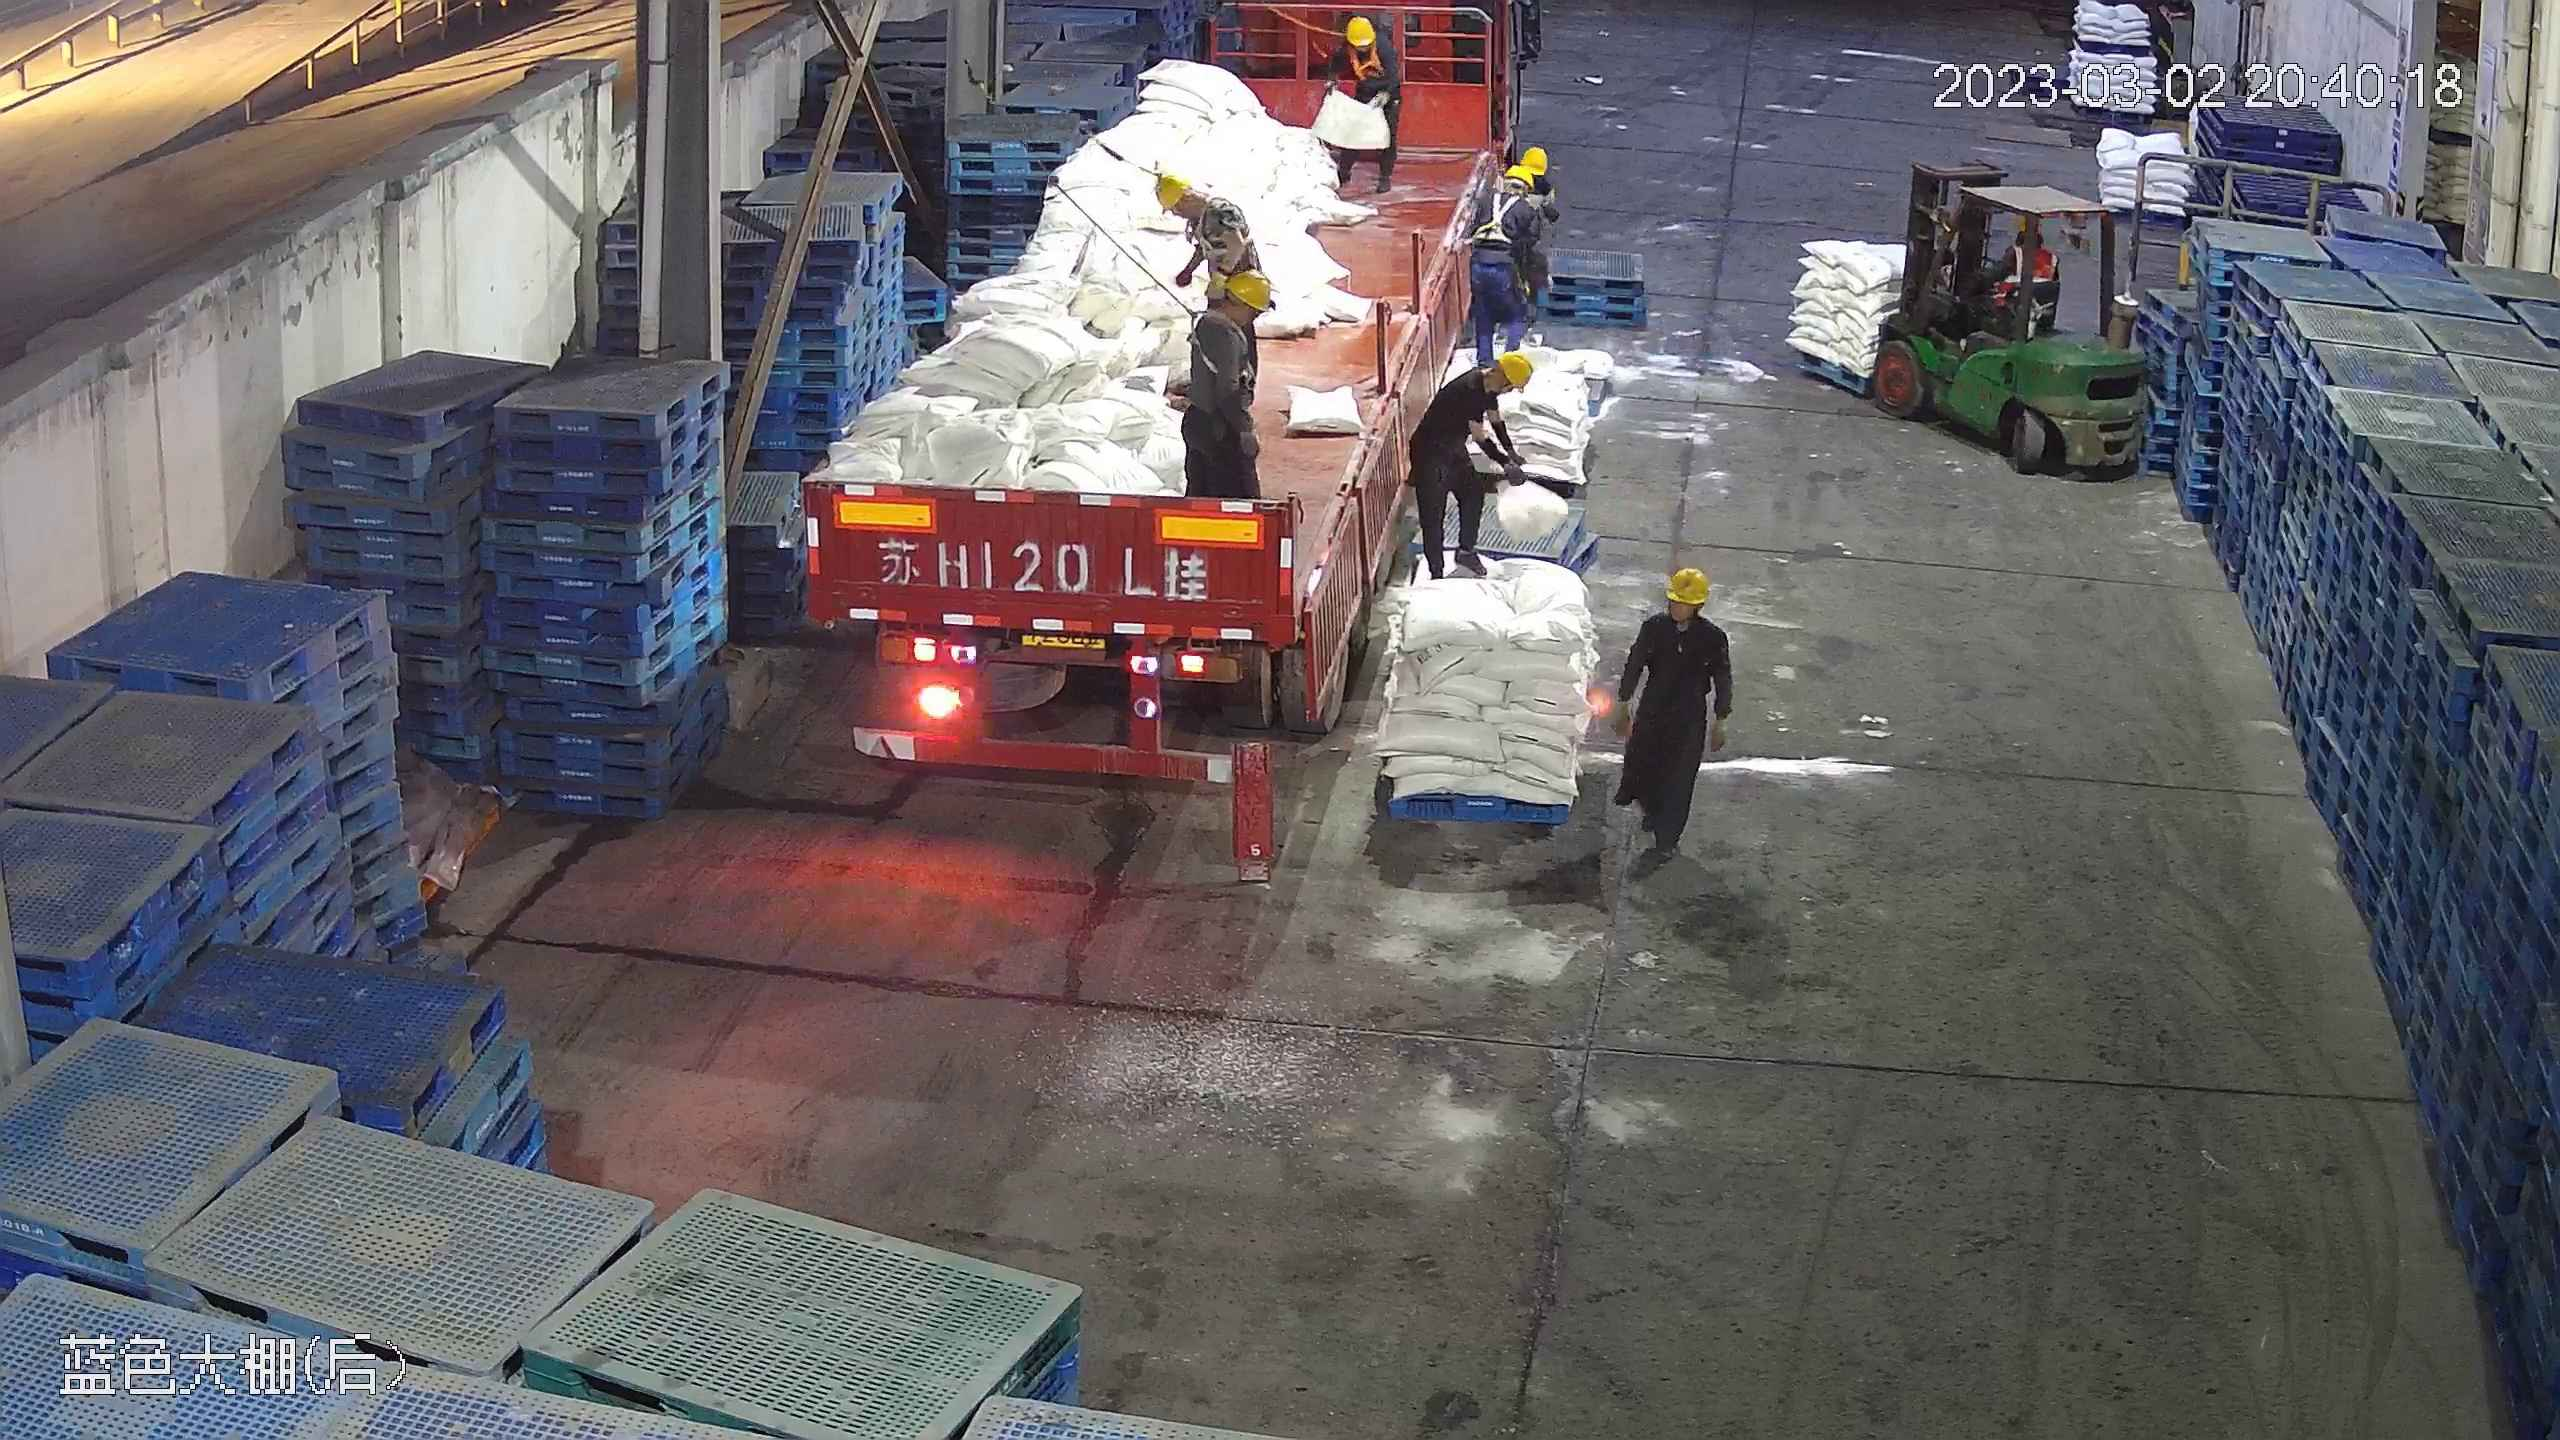belt: (1185, 309, 1257, 382), (1186, 193, 1256, 254), (1469, 182, 1529, 241), (1473, 193, 1525, 245), (1191, 191, 1227, 259), (1340, 43, 1388, 89)
head: (1624, 563, 1727, 666), (1185, 262, 1274, 357), (1442, 347, 1534, 424), (1154, 171, 1245, 243), (1475, 144, 1553, 220), (1325, 14, 1390, 70), (2004, 211, 2054, 267)
helmet: (1220, 268, 1276, 315), (1494, 347, 1537, 393), (1663, 562, 1710, 605), (1151, 168, 1193, 212), (1514, 144, 1550, 183), (1344, 14, 1377, 44), (2013, 211, 2041, 233)
people: (1605, 561, 1730, 870), (1408, 344, 1533, 586), (1177, 266, 1269, 504), (1460, 143, 1558, 365), (1313, 11, 1405, 195), (1992, 211, 2056, 305)
truck: (800, 6, 1533, 794)
